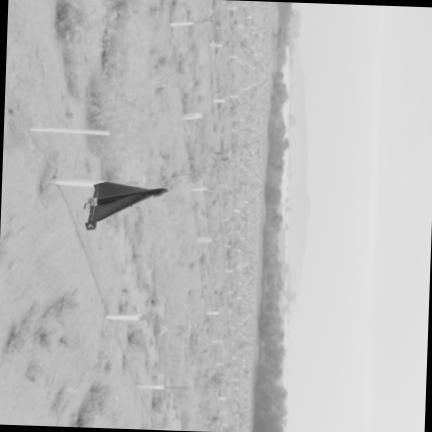Shahed: (84, 183, 168, 230)
